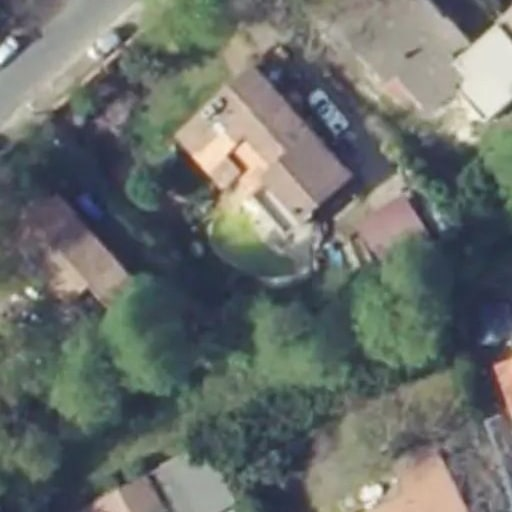pool: (205, 198, 301, 283)
